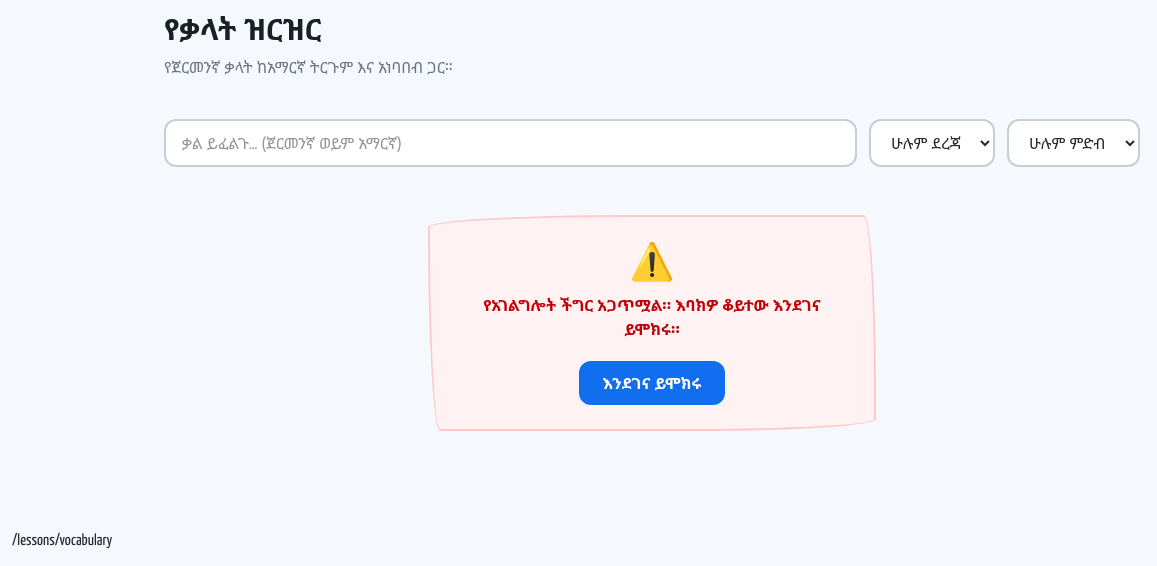
Vocabulary › shows an Amharic error with retry, and retry reloads the list
Expected: the message shows "የአገልግሎት ችግር አጋጥሟል", [483,294,821,340]
Click the button "እንደገና ይሞክሩ".
click(652, 383)  # box [579,361,725,405]
Wait 250 ms
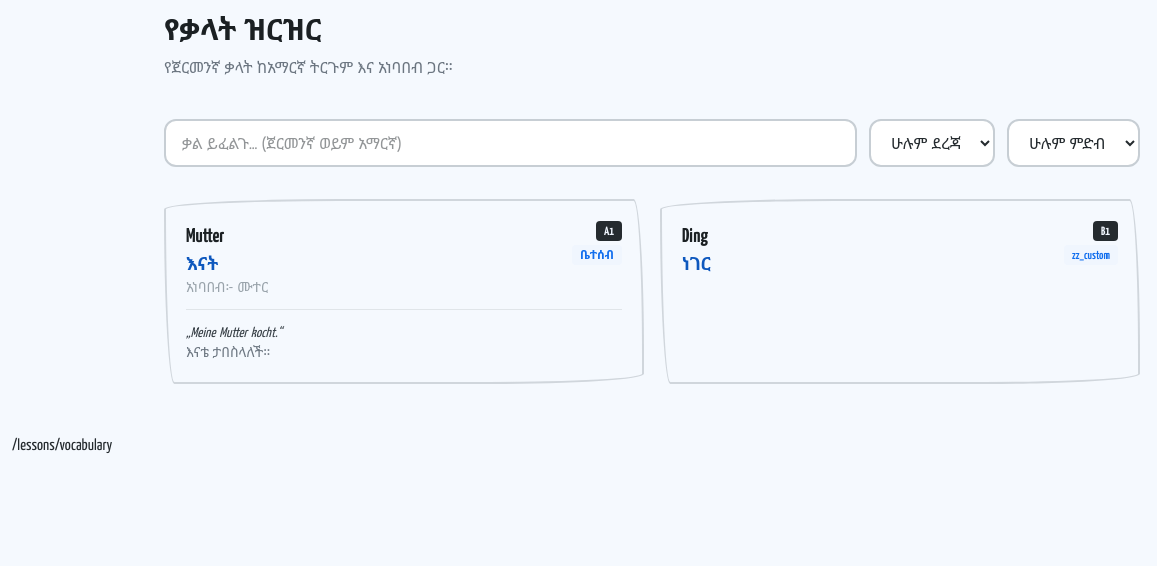
Now the text "Mutter" is shown, box [186,221,224,248]
